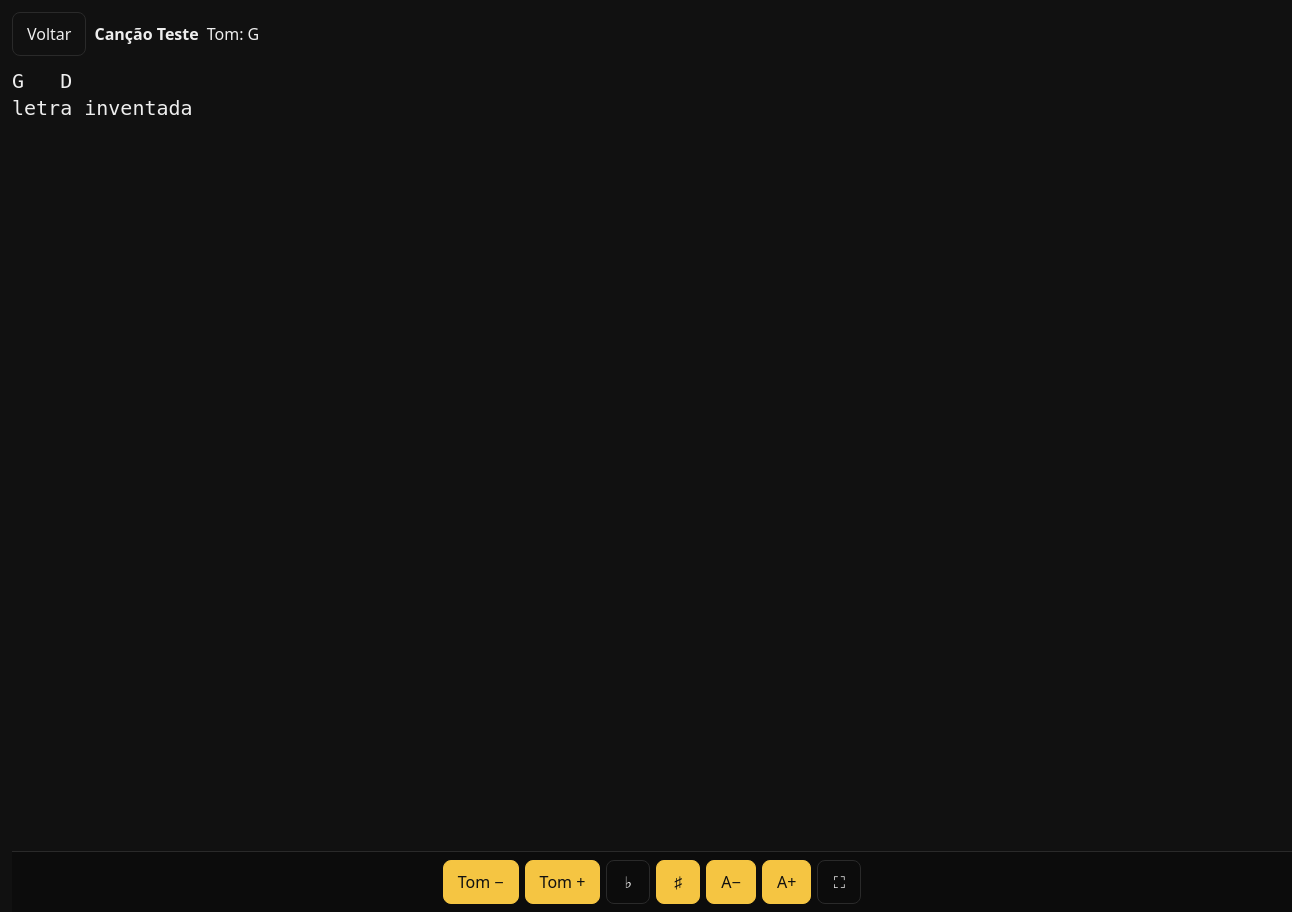
it: SongView › subir tom troca os acordes e persiste
Expected: the text named "Cifra" is shown, [12,69,193,120]
Click the button with aria-label "Subir tom". click: (562, 882)
box: [525,860,600,904]
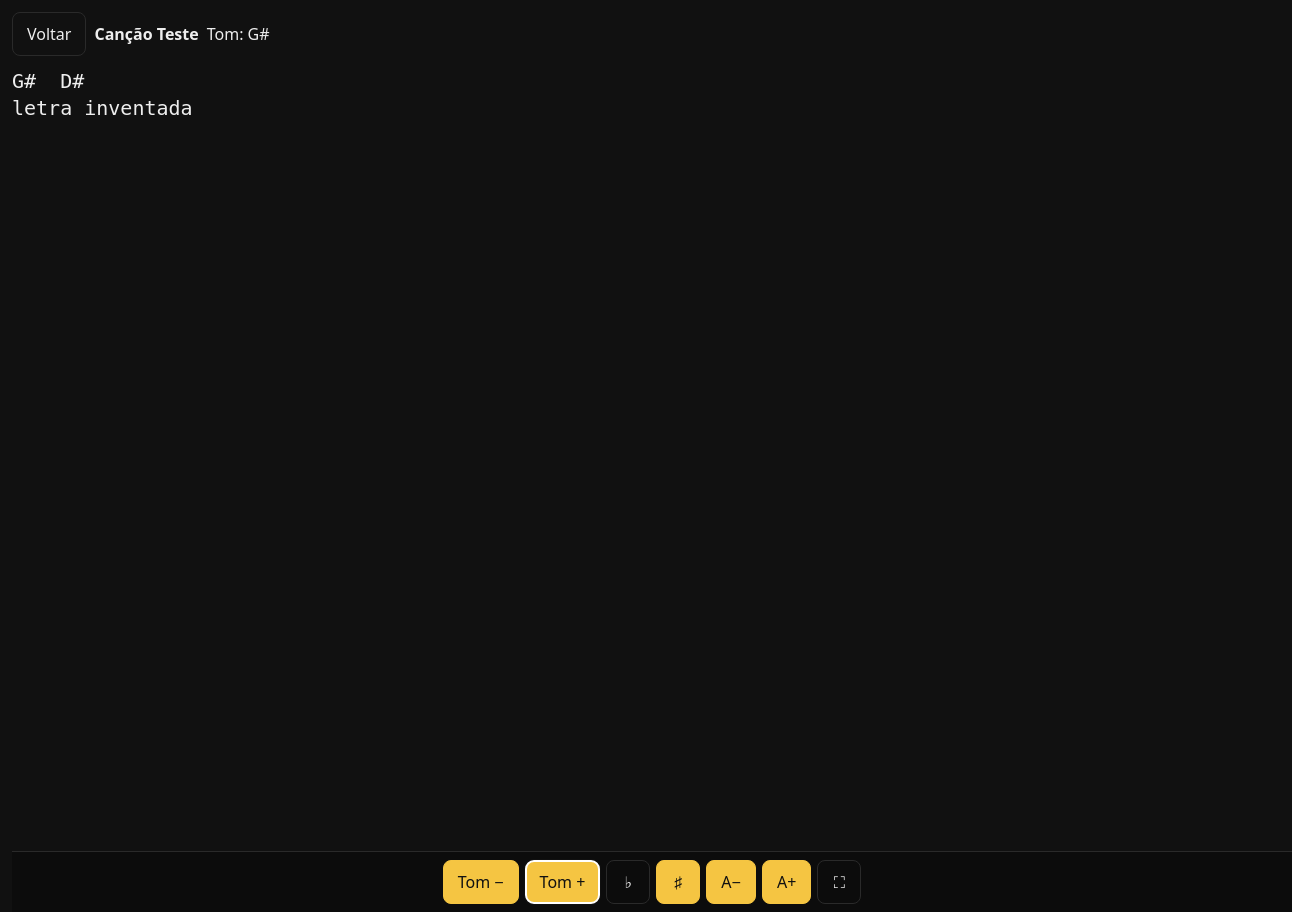
Expected: the text named "Cifra" shows "G# D#", [12,69,193,120]
Expected: the text "Tom: G#" is shown, [207,23,270,45]
